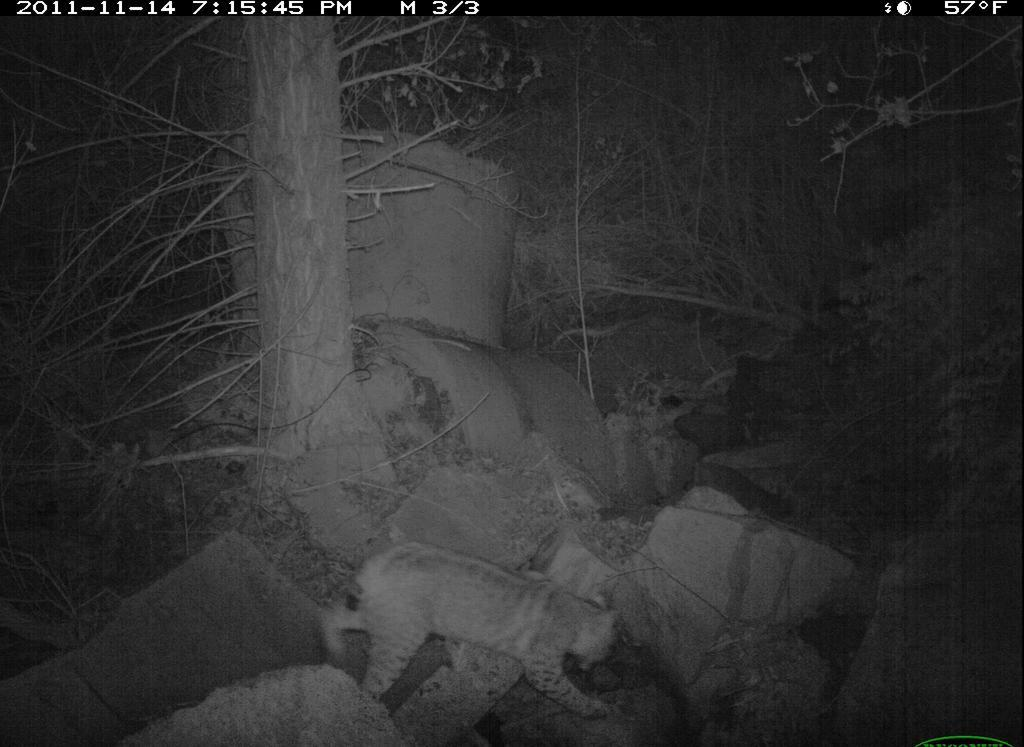bobcat: (312, 539, 626, 720)
